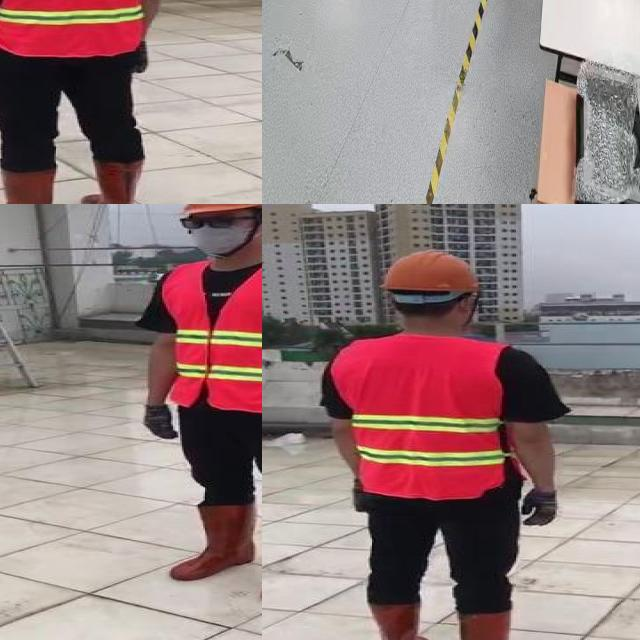boots: (168, 505, 258, 584), (86, 158, 150, 204), (452, 609, 539, 640), (359, 604, 432, 640), (0, 161, 61, 204)
face_mask: (177, 212, 250, 255)
glasses: (173, 214, 242, 232)
hand_glove: (522, 488, 560, 529), (144, 406, 181, 442)
head_helmet: (376, 247, 485, 294), (171, 204, 262, 217)
person: (312, 235, 579, 640), (135, 204, 262, 609), (0, 0, 185, 204)
shoes: (633, 78, 640, 117)
vest: (333, 335, 512, 500), (166, 256, 262, 411), (0, 0, 166, 56)
